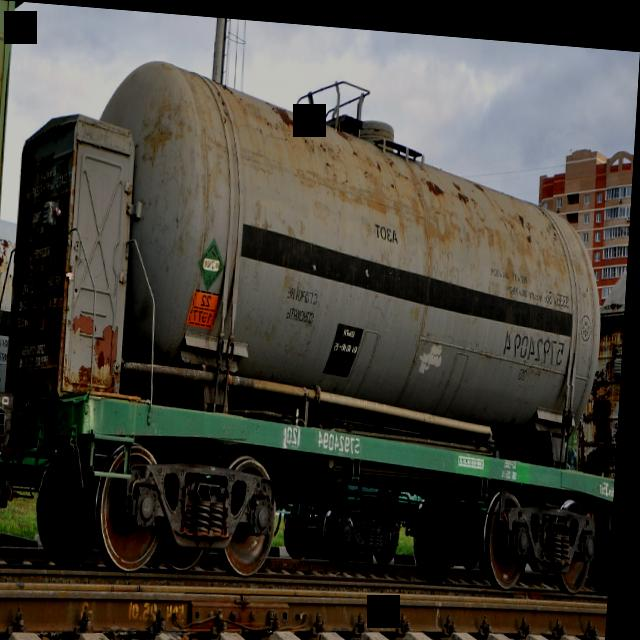boxcar: (0, 0, 36, 560)
tank: (0, 10, 636, 602)
